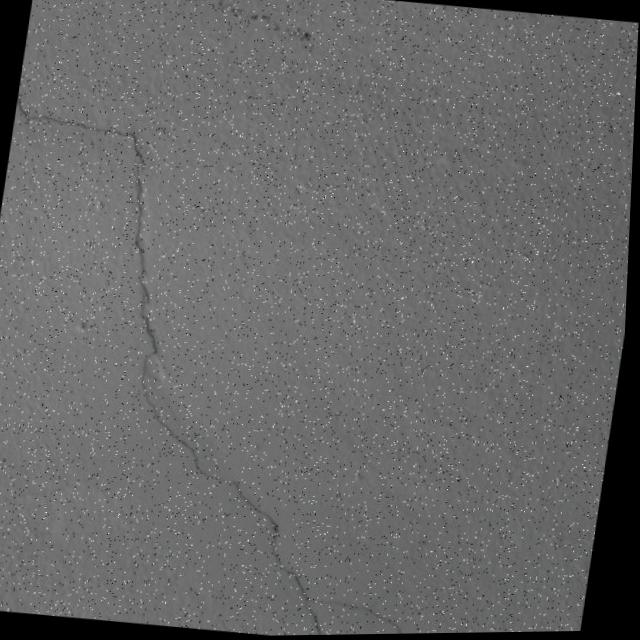Crack: (0, 74, 521, 640)
